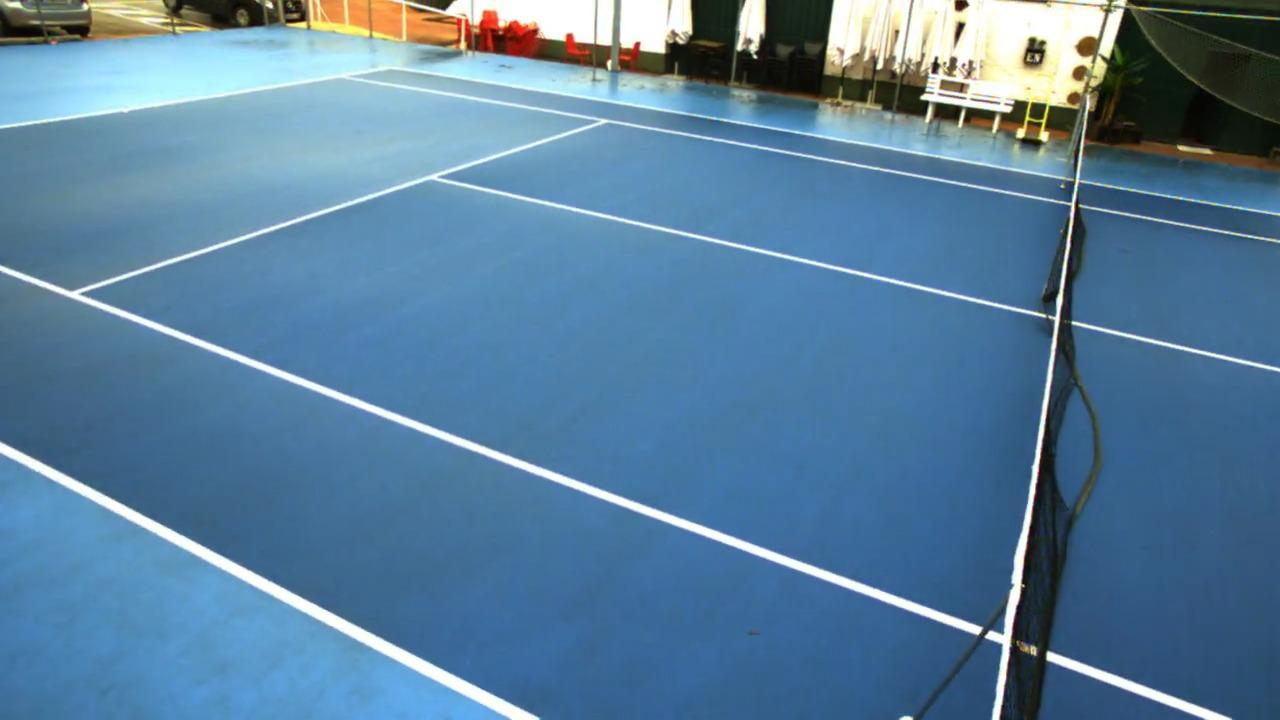cancha_tenis: (0, 74, 1280, 720)
point_f2: (330, 67, 357, 89)
point_fc1: (119, 104, 133, 118)
point_i1: (55, 274, 99, 311)
point_i2: (589, 111, 615, 133)
point_ic1: (420, 161, 454, 192)
